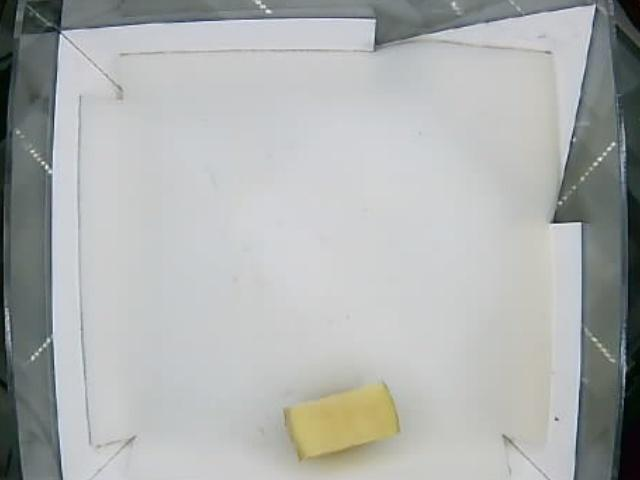Potato: (283, 379, 403, 459)
